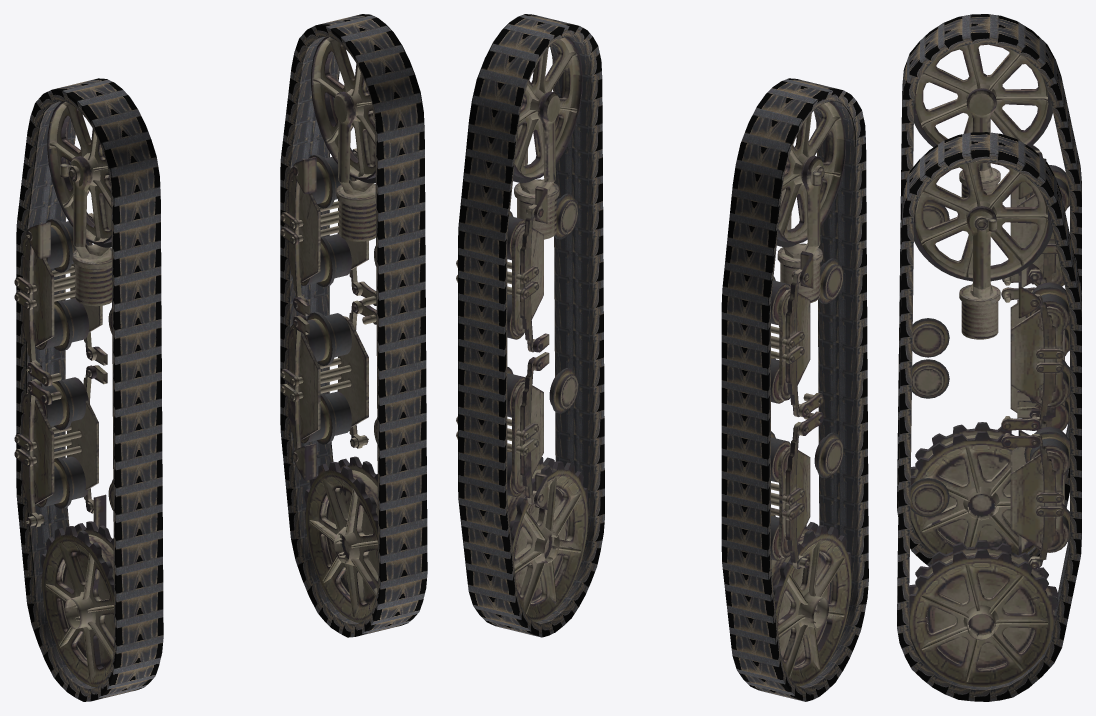
Rendered from Chassis.glb.
3 renders of one model, left to right at view 1: azimuth 30°, elevation 25°; view 2: azimuth 150°, elevation 25°; view 3: azimuth 270°, elevation 25°, orthographic. The views are drawn at different scales.
Visible parts, largest first — view 1: set_1_group_0, set_0_group_0, set_3_group_0, set_2_group_0; view 2: set_0_group_0, set_1_group_0, set_2_group_0, set_3_group_0; view 3: set_3_group_0, set_2_group_0, set_0_group_0, set_1_group_0.
Boxes of the visible parts, x1,y1,x2,y2 form: set_1_group_0: (16,78,163,701); set_0_group_0: (280,14,427,637); set_3_group_0: (280,37,378,622); set_2_group_0: (14,101,114,686); set_0_group_0: (458,14,604,637); set_1_group_0: (721,78,868,701); set_2_group_0: (771,101,851,686); set_3_group_0: (456,37,588,621); set_3_group_0: (909,161,1069,686); set_2_group_0: (910,43,1069,555); set_0_group_0: (897,132,1081,701); set_1_group_0: (897,14,1081,566).
Bounding box in the file's own units: 2.02 × 3.37 × 1.03.
Materials: 4 (4 with a texture image).
